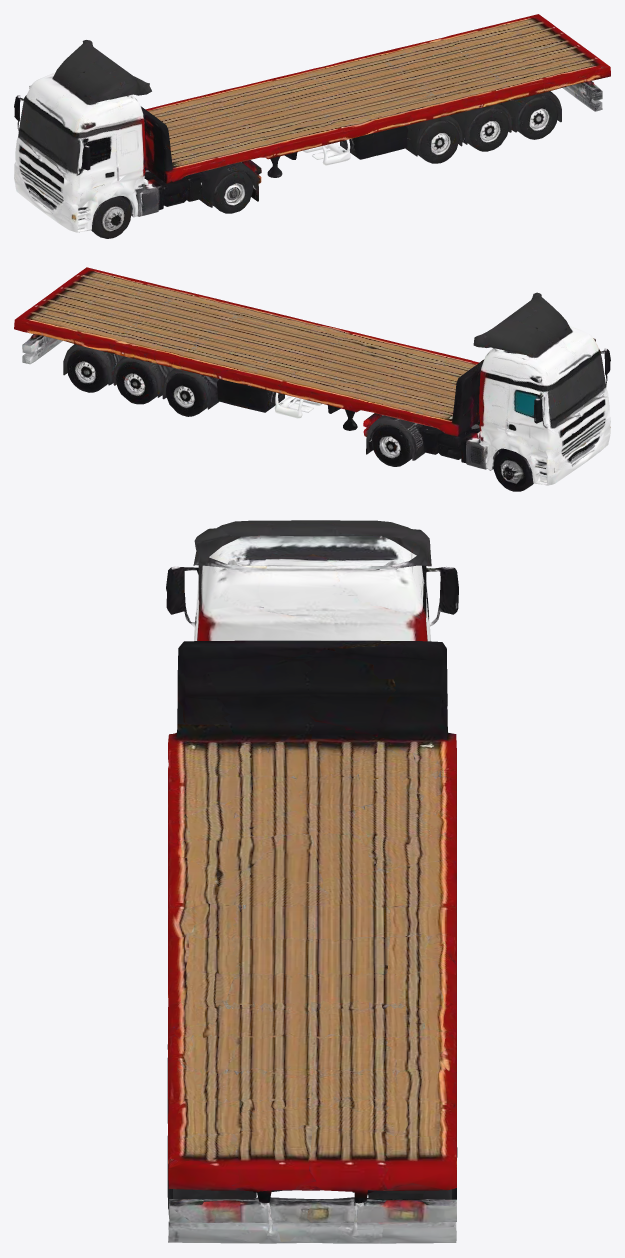
The model's file is tanker-1.glb.
3 views of the same model, one above another, from view 1: azimuth 30°, elevation 25°; view 2: azimuth 150°, elevation 25°; view 3: azimuth 270°, elevation 25° (orthographic). The views are drawn at different scales.
Bounding box in the file's own units: 1.9 × 0.5139 × 0.4514.
1 material, 1 textured.
